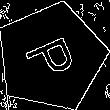P_NE: (20, 30, 82, 84)
